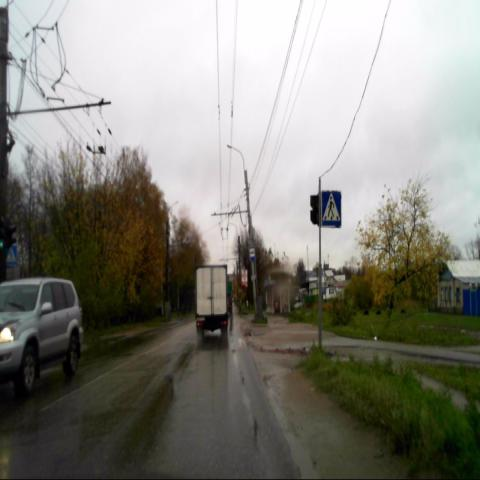5_16: (248, 245, 256, 262)
5_19_1: (321, 189, 342, 229), (4, 244, 17, 266)
